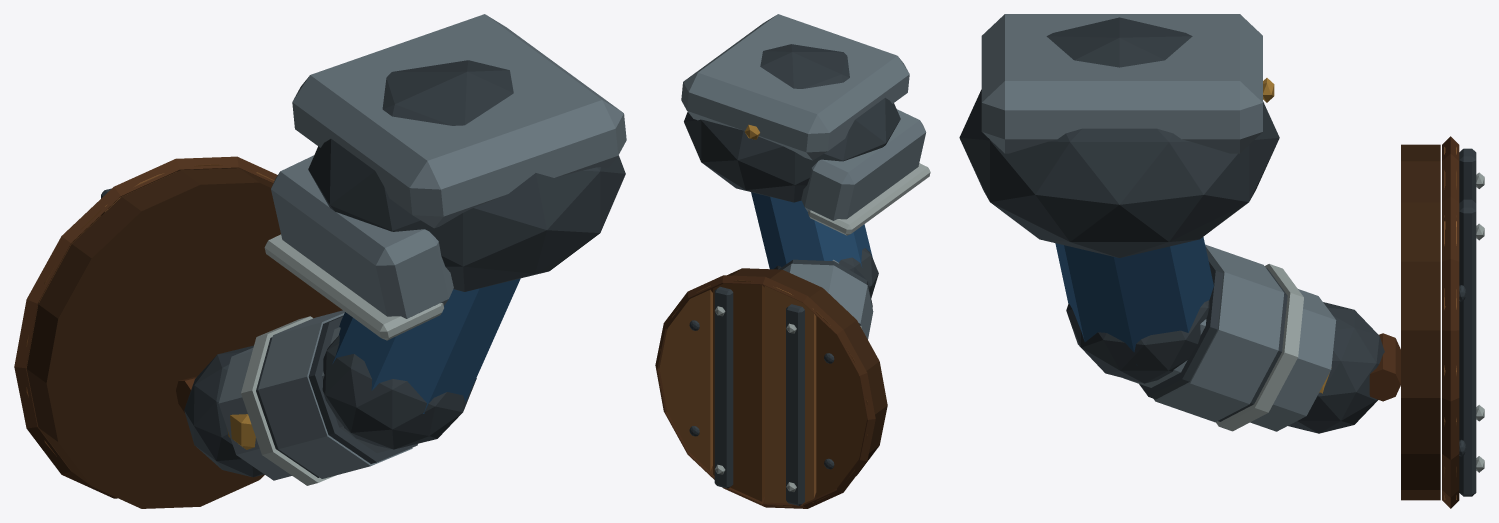
The model's file is ArmLeft.glb.
The picture shows the model from 3 angles, left to right: view 1: azimuth 30°, elevation 25°; view 2: azimuth 150°, elevation 25°; view 3: azimuth 270°, elevation 25°; orthographic projection. The views are drawn at different scales.
Parts seen in each view (by area): view 1: Sculpture; view 2: Sculpture; view 3: Sculpture.
Boxes of the visible parts, left/top/right/bottom form: Sculpture: left=14, top=14, right=626, bottom=508; Sculpture: left=655, top=14, right=930, bottom=508; Sculpture: left=959, top=14, right=1484, bottom=508.
Bounding box in the file's own units: 0.69 × 0.799 × 0.7377.
